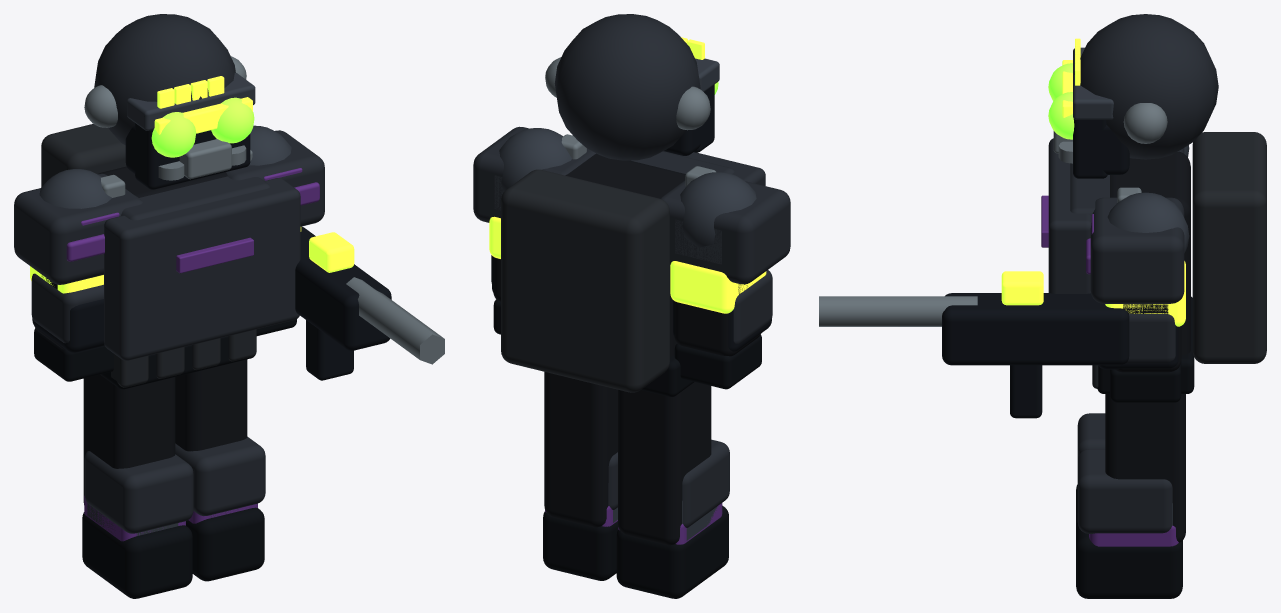
Rendered from sentinel_l04.glb.
3 renders of one model, left to right at view 1: azimuth 30°, elevation 25°; view 2: azimuth 150°, elevation 25°; view 3: azimuth 270°, elevation 25°, orthographic. The views are drawn at different scales.
Visible parts, largest first — view 1: tactical_chest_plate, trouser (×2), shaped_knee_guard (×2), boot (×2), rounded_helmet, broad_shoulder_guard (×2), heavy_carbine, field_pack, shoulder_joint (×2), heavy_barrel, segmented_vest, forearm_plate (+22 smaller); view 2: field_pack, trouser (×2), rounded_helmet, boot (×2), broad_shoulder_guard (×2), shoulder_joint (×2), rank_stripe (×2), shaped_knee_guard (×2), body, glove, sleeve, forearm_plate (+9 smaller); view 3: field_pack, rounded_helmet, heavy_carbine, broad_shoulder_guard, trouser, shaped_knee_guard (×2), boot, tactical_chest_plate, heavy_barrel, body, shoulder_joint, glove (+14 smaller).
Boxes of the visible parts, left/top/right/bottom form: tactical_chest_plate: left=104, top=178, right=300, bottom=360; trouser (×2): left=83, top=359, right=247, bottom=504; shaped_knee_guard (×2): left=84, top=436, right=265, bottom=533; boot (×2): left=82, top=507, right=264, bottom=598; rounded_helmet: left=94, top=14, right=235, bottom=145; broad_shoulder_guard (×2): left=14, top=130, right=324, bottom=284; heavy_carbine: left=295, top=226, right=391, bottom=350; field_pack: left=41, top=124, right=126, bottom=186; shoulder_joint (×2): left=39, top=125, right=291, bottom=208; heavy_barrel: left=346, top=277, right=444, bottom=364; segmented_vest: left=121, top=176, right=270, bottom=220; forearm_plate: left=31, top=273, right=103, bottom=343; field_pack: left=501, top=169, right=669, bottom=392; trouser (×2): left=544, top=372, right=711, bottom=545; rounded_helmet: left=554, top=14, right=700, bottom=160; boot (×2): left=543, top=505, right=728, bottom=598; broad_shoulder_guard (×2): left=473, top=126, right=790, bottom=284; shoulder_joint (×2): left=499, top=128, right=756, bottom=247; rank_stripe (×2): left=489, top=216, right=766, bottom=313; shaped_knee_guard (×2): left=608, top=439, right=729, bottom=527; body: left=565, top=153, right=685, bottom=357; glove: left=674, top=335, right=761, bottom=389; sleeve: left=674, top=284, right=760, bottom=356; forearm_plate: left=733, top=270, right=772, bottom=344; field_pack: left=1192, top=132, right=1266, bottom=363; rounded_helmet: left=1074, top=14, right=1218, bottom=159; heavy_carbine: left=942, top=293, right=1129, bottom=365; broad_shoulder_guard: left=1090, top=197, right=1184, bottom=303; trouser: left=1105, top=394, right=1185, bottom=542; shaped_knee_guard (×2): left=1077, top=413, right=1172, bottom=533; boot: left=1076, top=520, right=1182, bottom=598; tactical_chest_plate: left=1048, top=138, right=1091, bottom=293; heavy_barrel: left=819, top=296, right=977, bottom=326; body: left=1110, top=151, right=1190, bottom=355; shoulder_joint: left=1107, top=192, right=1189, bottom=253; glove: left=1110, top=361, right=1181, bottom=402.
Size of the model in its own units: 0.99 by 1.87 by 1.39.
